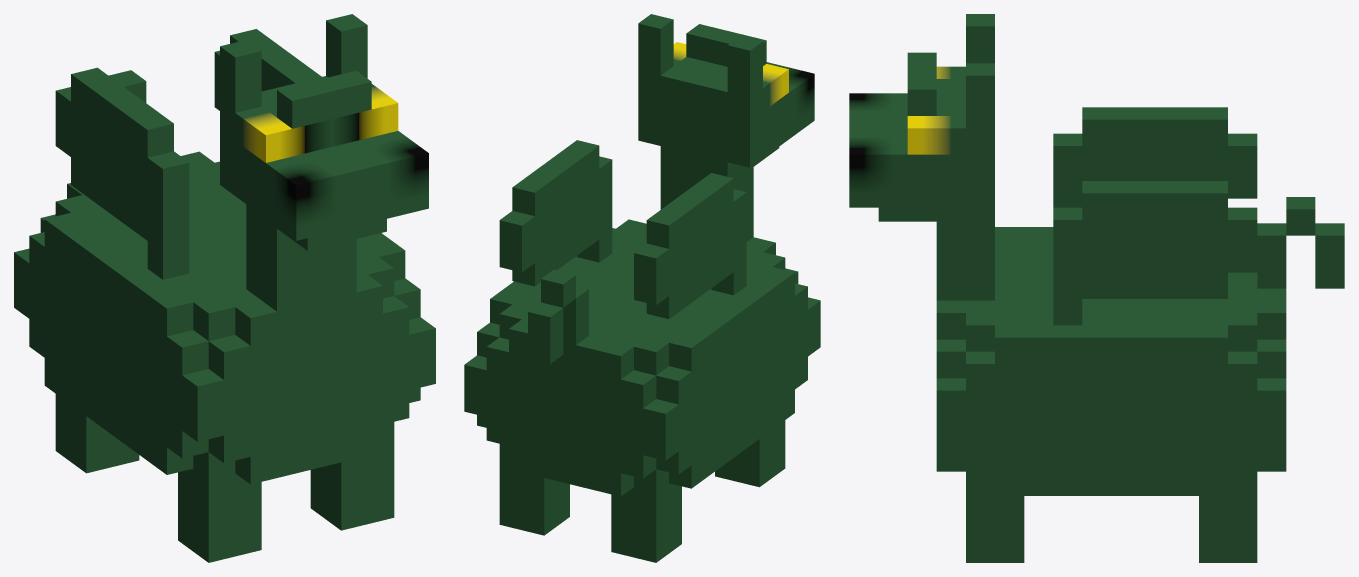
Rendered from Dragon.dae.
3 views of the same model, side by side, from view 1: azimuth 30°, elevation 25°; view 2: azimuth 150°, elevation 25°; view 3: azimuth 270°, elevation 25° (orthographic). The views are drawn at different scales.
Visible parts, largest first — view 1: Corps_Dragon, Tete_Dragon, Aile_D_Dragon, Cou_Dragon, Pate_Avant_D_Dragon, Pate_Avant_G_Dragon, Pate_Arriere_D_Dragon, Aile_G_Dragon; view 2: Corps_Dragon, Tete_Dragon, Aile_G_Dragon, Aile_D_Dragon, Cou_Dragon, Pate_Arriere_D_Dragon, Pate_Arriere_G_Dragon, Pate_Avant_D_Dragon; view 3: Corps_Dragon, Aile_G_Dragon, Tete_Dragon, Aile_D_Dragon, Cou_Dragon, Pate_Arriere_G_Dragon, Pate_Avant_G_Dragon.
Part boxes in pixels (box(x1,y1,x2,y2)): Corps_Dragon: box(14, 70, 435, 484); Tete_Dragon: box(220, 14, 428, 250); Aile_D_Dragon: box(55, 67, 189, 279); Cou_Dragon: box(246, 204, 356, 365); Pate_Avant_D_Dragon: box(178, 452, 261, 562); Pate_Avant_G_Dragon: box(310, 434, 394, 530); Pate_Arriere_D_Dragon: box(55, 394, 139, 473); Aile_G_Dragon: box(214, 29, 321, 110); Corps_Dragon: box(464, 219, 820, 496); Tete_Dragon: box(638, 14, 814, 180); Aile_G_Dragon: box(499, 140, 612, 286); Aile_D_Dragon: box(634, 173, 746, 318); Cou_Dragon: box(660, 99, 753, 241); Pate_Arriere_D_Dragon: box(611, 470, 681, 562); Pate_Arriere_G_Dragon: box(499, 454, 569, 535); Pate_Avant_D_Dragon: box(715, 420, 785, 487); Corps_Dragon: box(936, 197, 1344, 495); Aile_G_Dragon: box(1053, 181, 1257, 325); Tete_Dragon: box(849, 14, 994, 221); Aile_D_Dragon: box(1053, 107, 1257, 207); Cou_Dragon: box(936, 207, 994, 300); Pate_Arriere_G_Dragon: box(1199, 483, 1257, 562); Pate_Avant_G_Dragon: box(966, 483, 1024, 562).
Size of the model in its own units: 9 by 18 by 17.
1 material, 1 textured.
